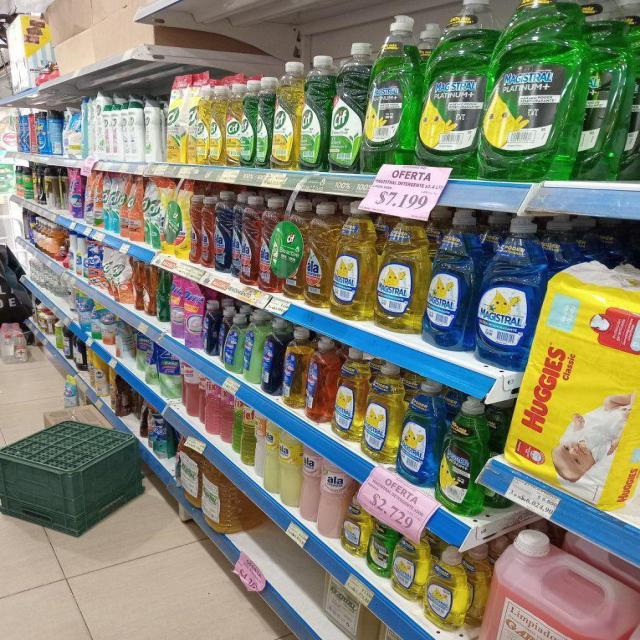ala_conc_amarillo: (305, 200, 332, 308), (282, 200, 304, 300)
ala_conc_azul: (214, 191, 230, 273)
ala_conc_rojo: (241, 193, 258, 287), (258, 195, 272, 293), (199, 194, 213, 268), (190, 191, 200, 264)
ala_crem_amarillo: (280, 430, 301, 507), (262, 317, 279, 396), (266, 418, 280, 496)
ala_crem_rosado: (319, 461, 346, 540), (301, 447, 319, 524)
ala_sachet_amarillo: (180, 178, 192, 262)
cif_conc_bot_amarilla: (272, 58, 299, 170), (224, 74, 240, 167), (208, 75, 224, 165)
cif_conc_botella_verde: (328, 42, 364, 172), (299, 53, 328, 171), (255, 74, 271, 168), (240, 74, 254, 168)
cif_conc_sachet_amarillo: (166, 72, 187, 163), (188, 72, 208, 164)
magistral_con_amarillo: (375, 214, 424, 333), (333, 202, 374, 321), (425, 546, 469, 630), (364, 360, 398, 464), (335, 347, 364, 442), (393, 532, 424, 600), (344, 480, 368, 558)
magistral_con_azul: (474, 214, 537, 370), (424, 210, 472, 350), (399, 378, 439, 487)
